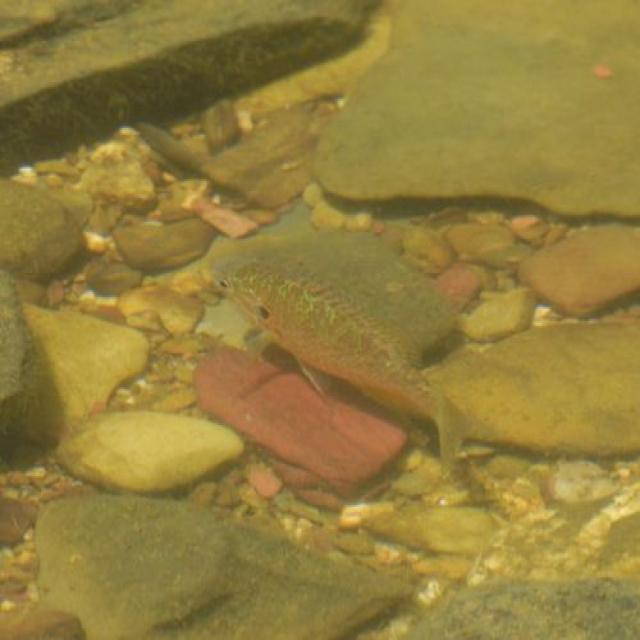Gunes Levregi: (205, 251, 480, 470)
